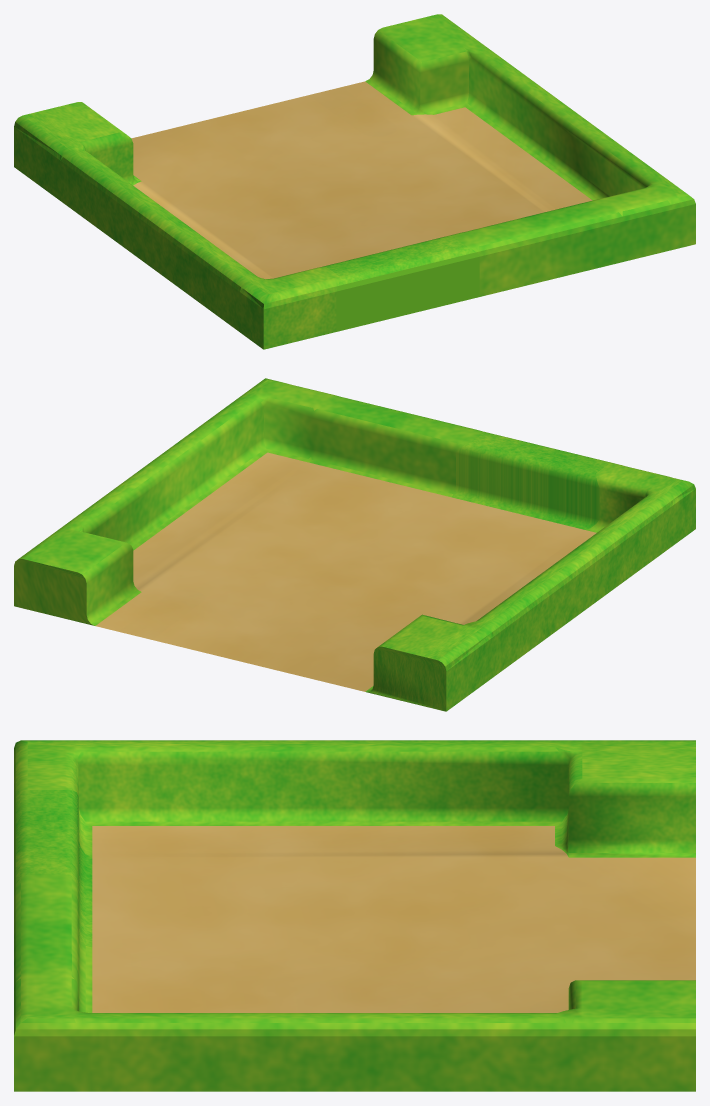
File: Map08.obj
3 renders of one model, top to bottom at view 1: azimuth 30°, elevation 25°; view 2: azimuth 150°, elevation 25°; view 3: azimuth 270°, elevation 25°, orthographic. The views are drawn at different scales.
Visible parts, largest first — view 1: Map.08_Plane.001; view 2: Map.08_Plane.001; view 3: Map.08_Plane.001.
Boxes of the visible parts, x1,y1,x2,y2 form: Map.08_Plane.001: [14, 14, 695, 349]; Map.08_Plane.001: [14, 378, 695, 711]; Map.08_Plane.001: [14, 740, 695, 1091].
Bounding box in the file's own units: 1 × 0.1093 × 1.
